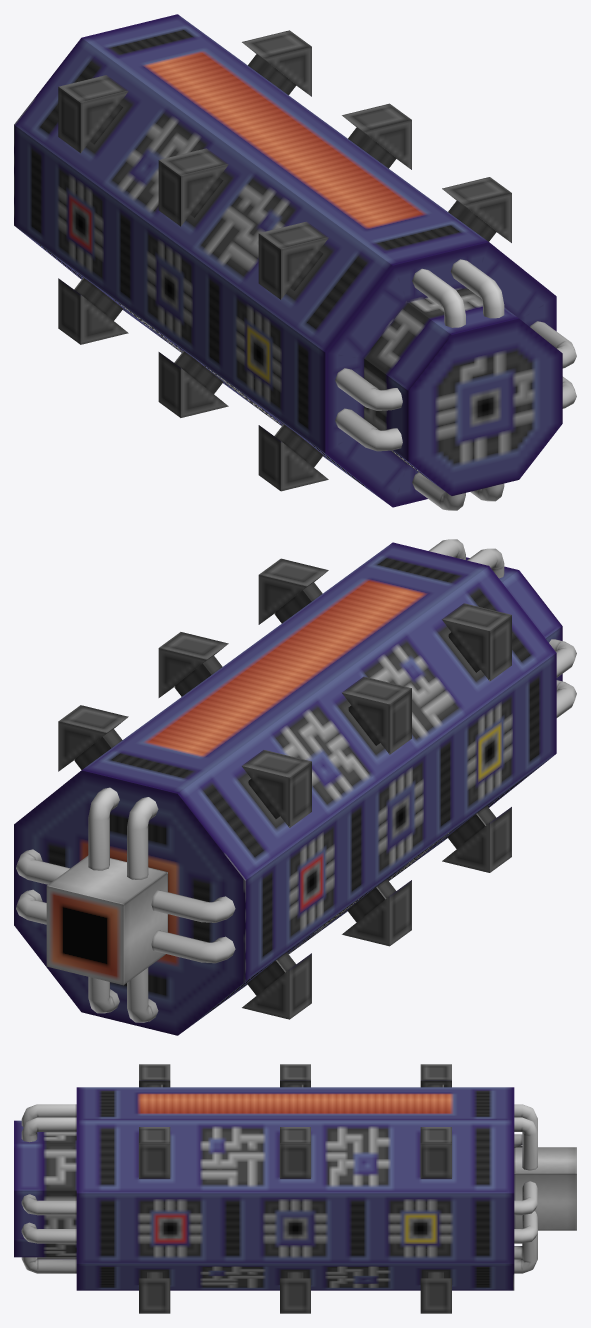
Rendered from pa_source.obj.
3 views of the same model, one above another, from view 1: azimuth 30°, elevation 25°; view 2: azimuth 150°, elevation 25°; view 3: azimuth 270°, elevation 25° (orthographic). The views are drawn at different scales.
Visible parts, largest first — view 1: Cube_Cube.001; view 2: Cube_Cube.001; view 3: Cube_Cube.001.
Boxes of the visible parts, box(x1,y1,x2,y2) form: Cube_Cube.001: box(14, 14, 576, 510); Cube_Cube.001: box(14, 539, 576, 1035); Cube_Cube.001: box(14, 1064, 576, 1313).
Size of the model in its own units: 3 by 3 by 9.
